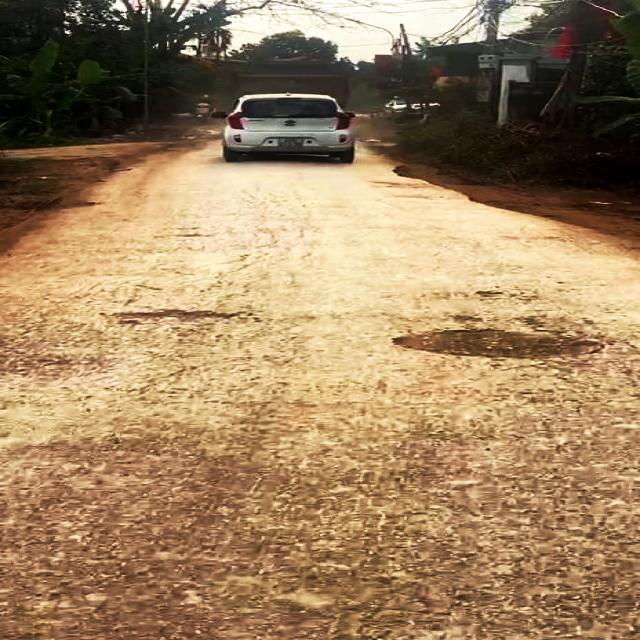pothole: (389, 328, 607, 362)
